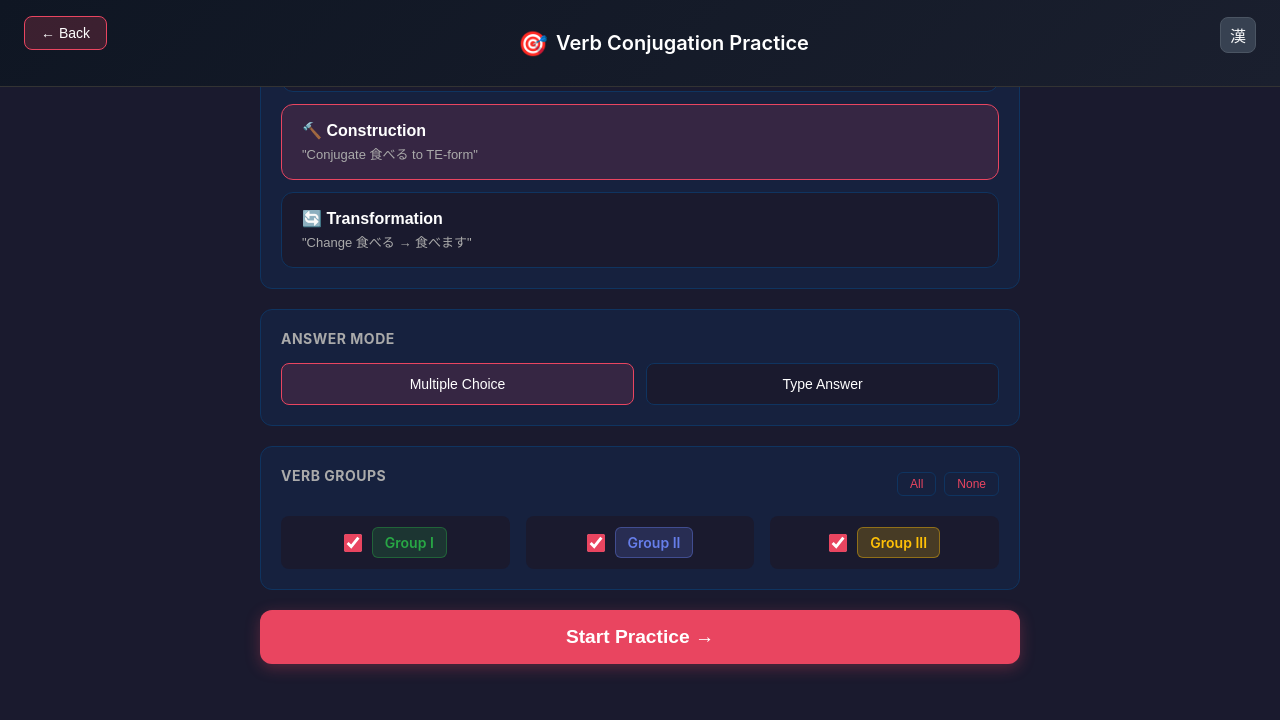
Test case: VerbMode › Starting Practice › should show loading state while fetching
The width and height of the screenshot is (1280, 720).
(page scrolled)
Click the button "Start Practice →": (640, 637) [260,610,1020,664]
(page scrolled)
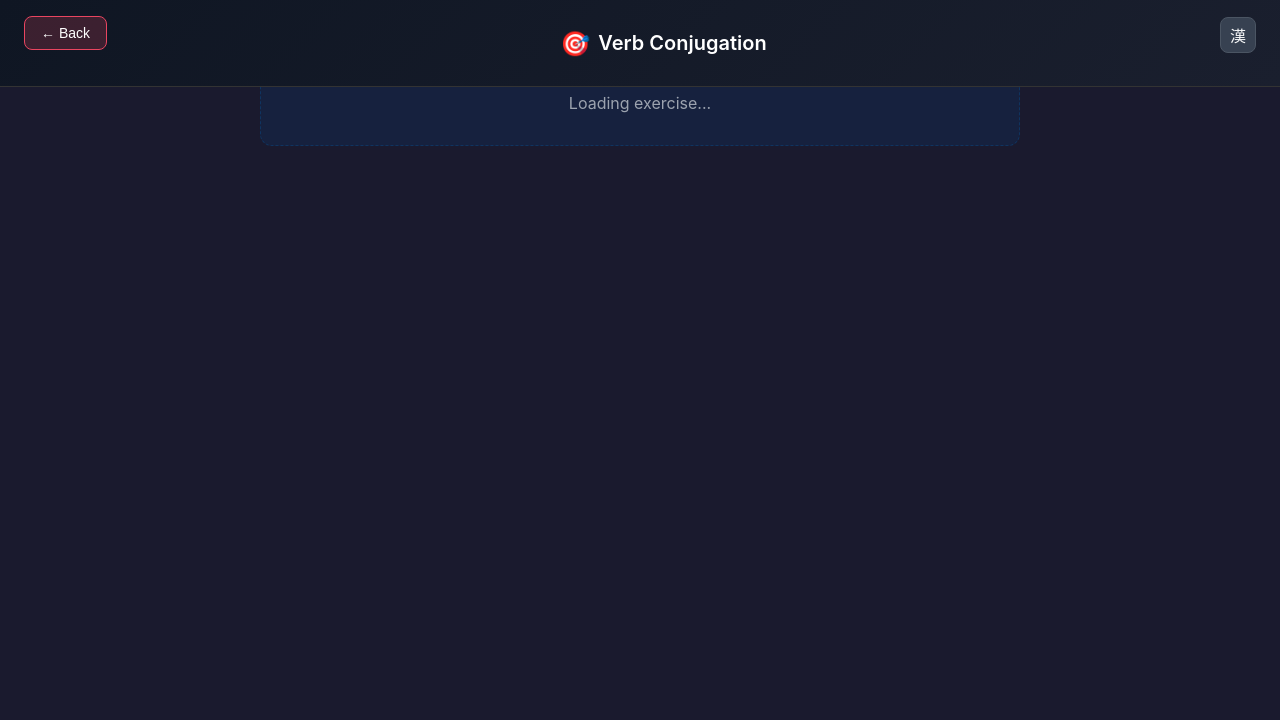
Expected: the text "Loading exercise..." is shown, [260,60,1020,146]
